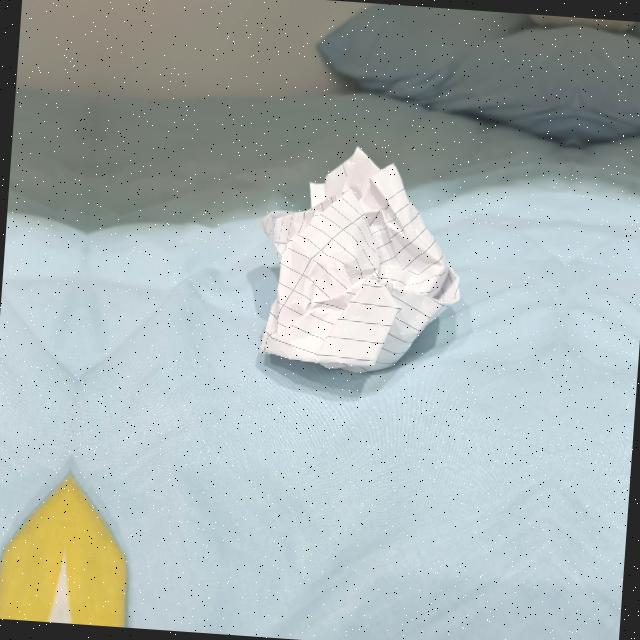paper: (247, 148, 463, 379)
